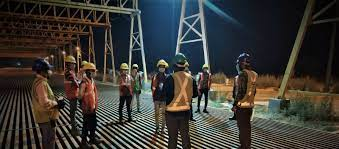arm: (35, 79, 63, 109), (230, 74, 243, 108), (87, 79, 98, 114), (164, 74, 174, 104), (124, 73, 133, 96)
face: (237, 55, 250, 69), (120, 67, 127, 73)
footwear: (86, 132, 100, 144), (165, 136, 177, 148), (153, 125, 166, 136), (201, 105, 210, 114), (117, 114, 125, 122), (126, 114, 134, 121)
helmet: (31, 55, 52, 73), (172, 51, 189, 67), (79, 59, 96, 71), (155, 57, 169, 69), (61, 53, 76, 63), (118, 60, 129, 70), (200, 61, 211, 70), (131, 61, 140, 69)
human: (226, 49, 261, 149), (27, 54, 64, 146), (163, 49, 197, 148), (73, 57, 102, 143), (114, 58, 134, 122), (196, 60, 214, 115)
leg: (235, 107, 253, 149), (83, 110, 100, 145), (164, 110, 179, 149), (178, 111, 193, 149), (153, 100, 166, 139), (201, 87, 211, 114), (124, 93, 133, 121), (116, 94, 125, 121)
novest: (76, 76, 98, 112), (62, 67, 78, 100)
vest: (30, 73, 56, 120), (168, 70, 193, 111), (232, 69, 258, 108), (152, 72, 169, 100), (116, 71, 131, 96), (198, 71, 211, 90), (132, 71, 142, 93)
